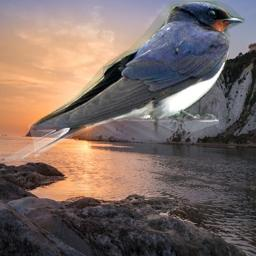Swallow: (4, 1, 245, 168)
